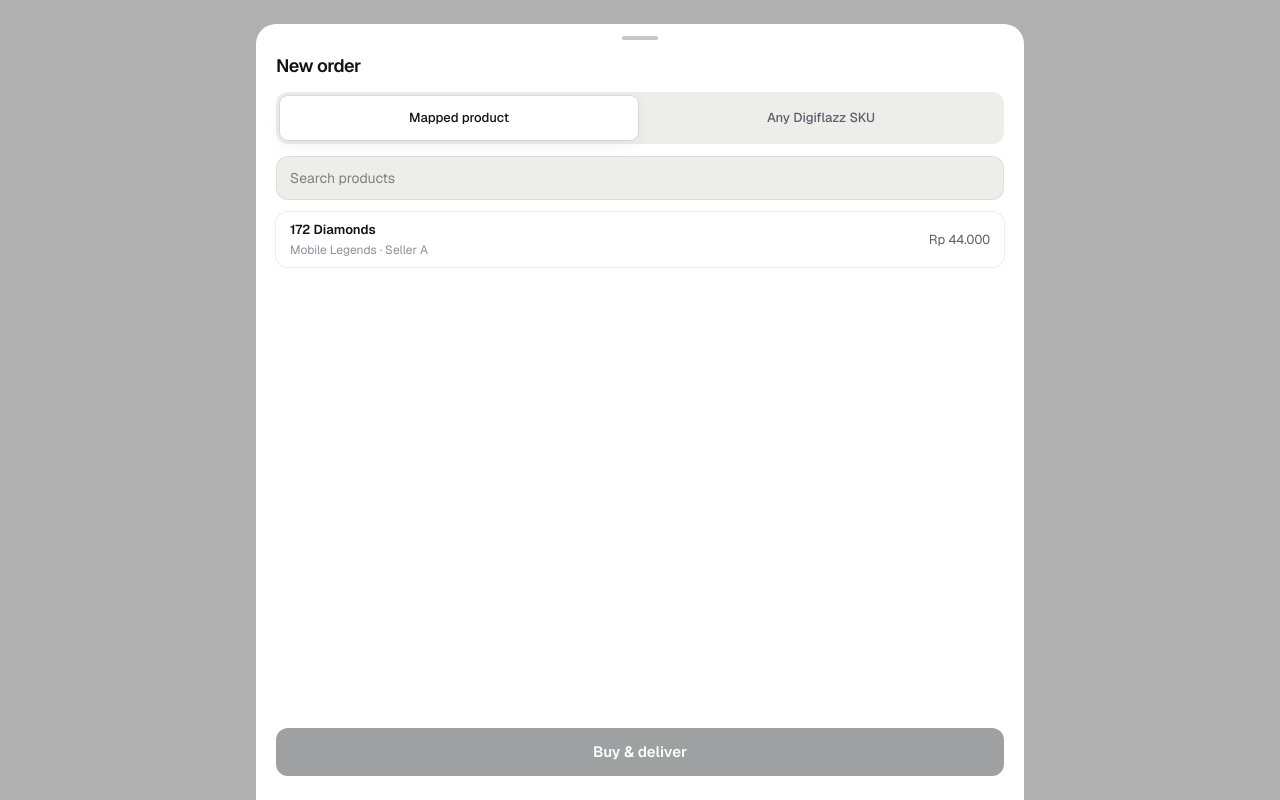
NewOrderSheet › deliveredWithNumberOffersWhatsapp
The image size is (1280, 800).
Click the button "172 Diamonds Mobile Legends · Seller A Rp 44.000" at x=333, y=230, box [276,212,1004,267]
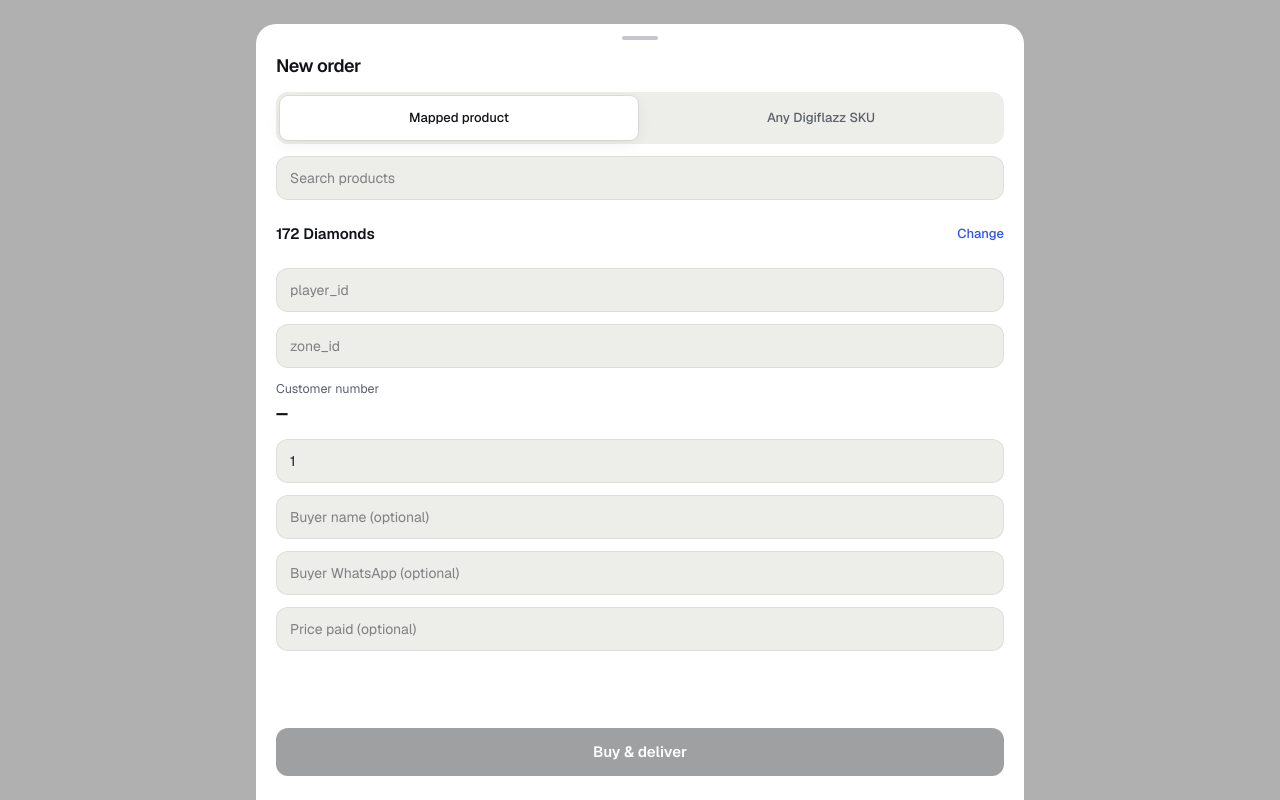
Type "1" into the field labelled "player_id" at x=640, y=290, box [276,268,1004,312]
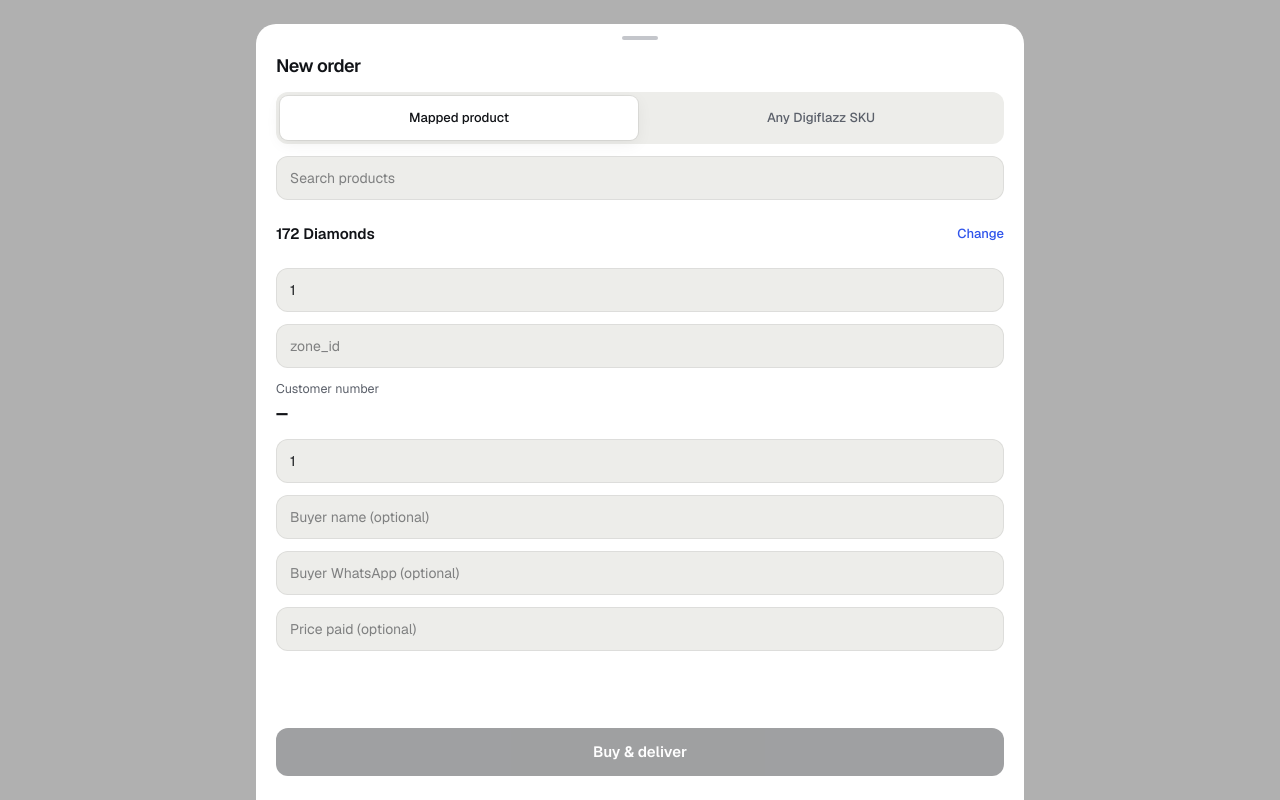
Type "2" into the field labelled "zone_id" at x=640, y=346, box [276,324,1004,368]
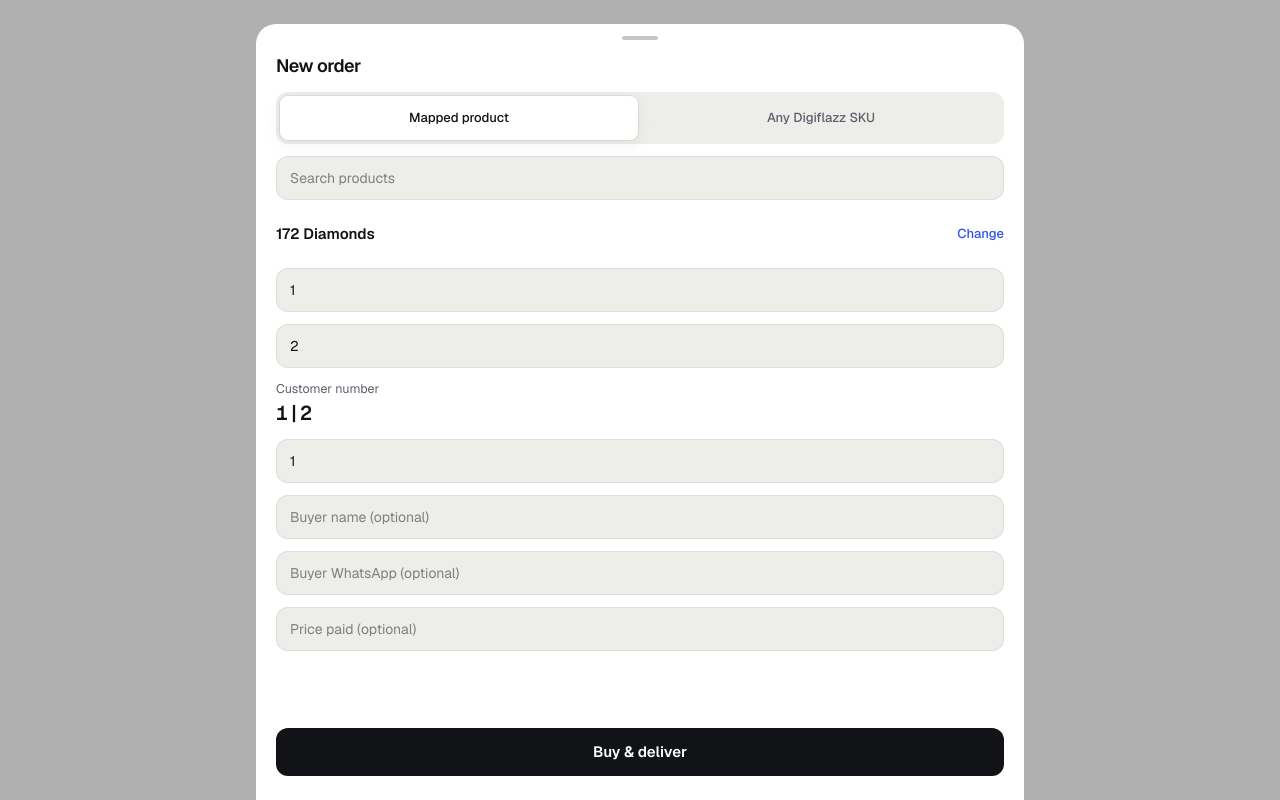
Click the button "Buy & deliver" at x=640, y=752, box [276,728,1004,776]
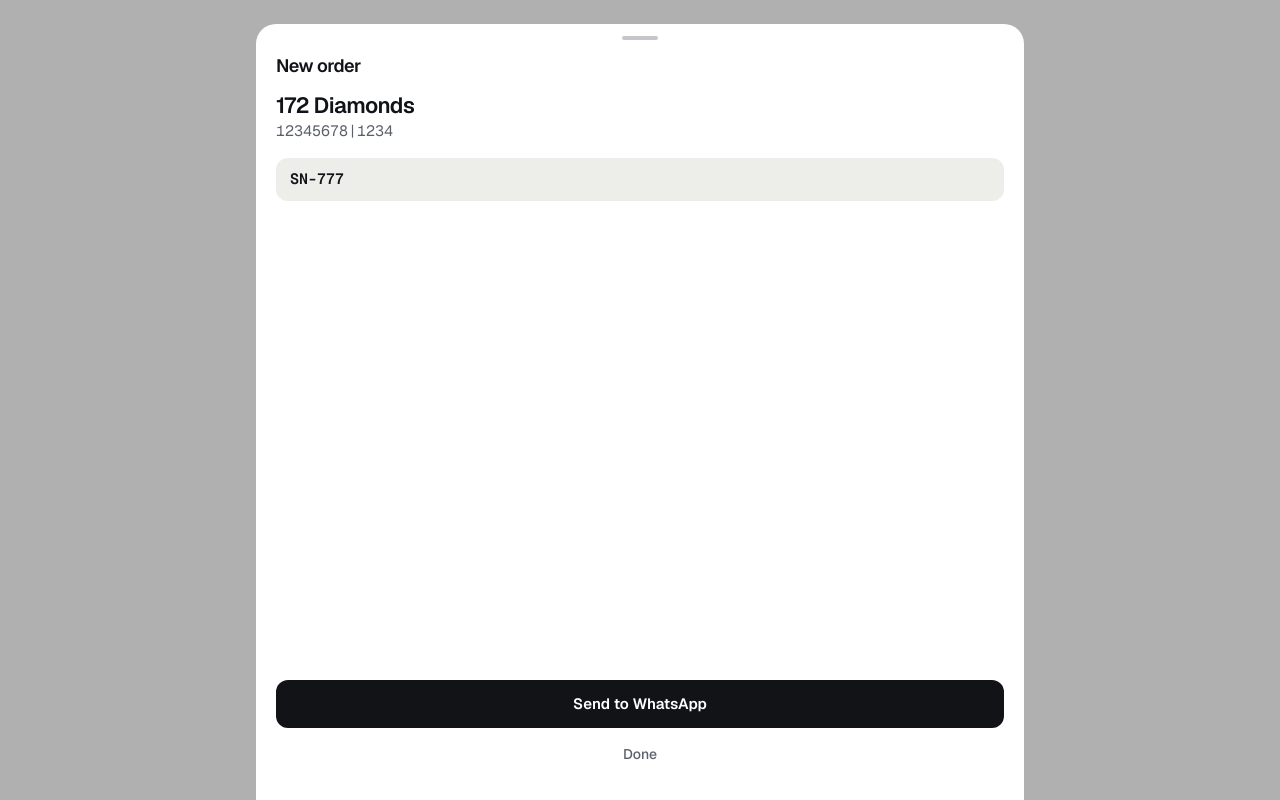
Check: the list item "SN-777" is shown, box [276,158,1004,200]
